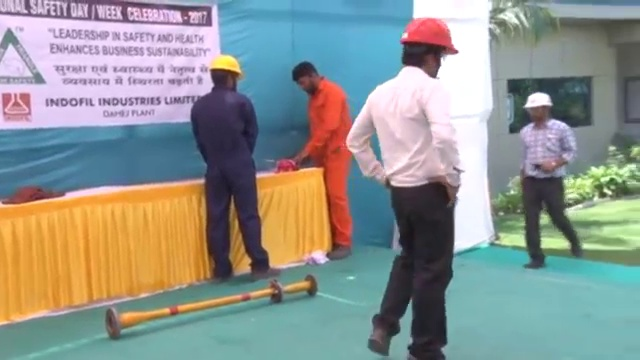helmet: (399, 15, 460, 56), (209, 53, 245, 80), (522, 91, 553, 109)
helmet_off: (288, 57, 325, 97)
helmet_on: (396, 14, 461, 83), (207, 49, 248, 95), (519, 90, 556, 127)
person: (343, 14, 465, 360), (191, 50, 282, 281), (287, 59, 358, 261), (517, 86, 583, 267)
